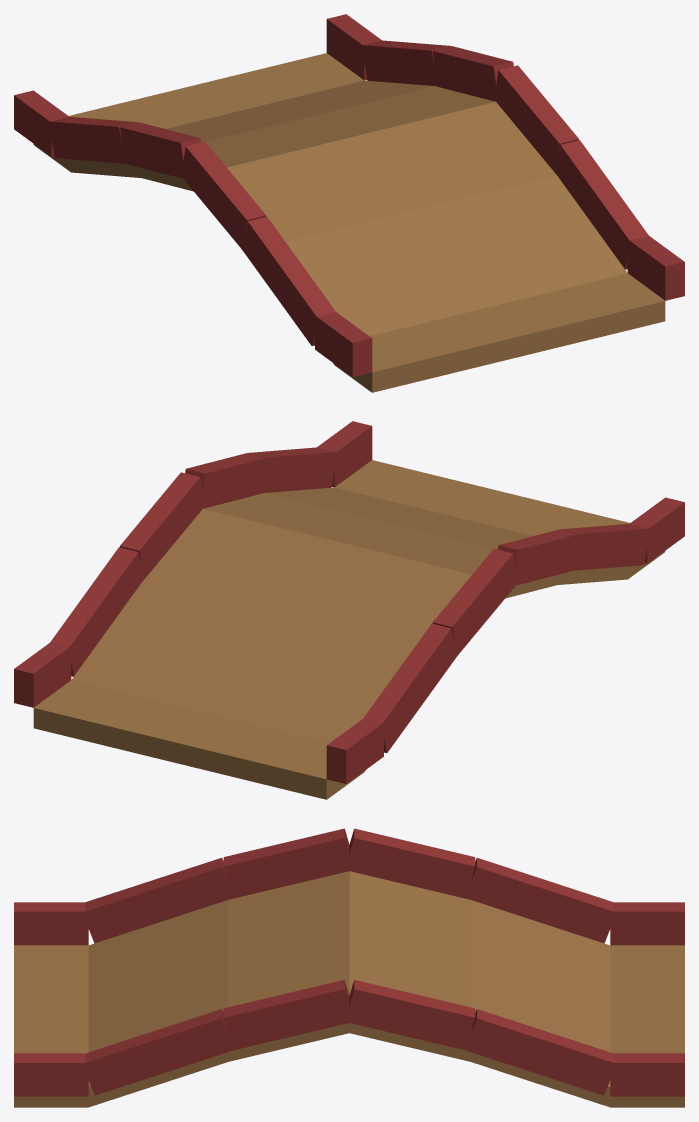
The model's file is PirateCove_BankRamp_Simple.glb.
The picture shows the model from 3 angles, top to bottom: view 1: azimuth 30°, elevation 25°; view 2: azimuth 150°, elevation 25°; view 3: azimuth 270°, elevation 25°; orthographic projection.
Visible parts, largest first — view 1: PirateCove_BankRamp_Simple; view 2: PirateCove_BankRamp_Simple; view 3: PirateCove_BankRamp_Simple.
Boxes of the visible parts, x1,y1,x2,y2 form: PirateCove_BankRamp_Simple: [14, 14, 684, 392]; PirateCove_BankRamp_Simple: [14, 421, 684, 799]; PirateCove_BankRamp_Simple: [14, 828, 684, 1107].
Bounding box in the file's own units: 2.04 × 0.7567 × 3.6.
